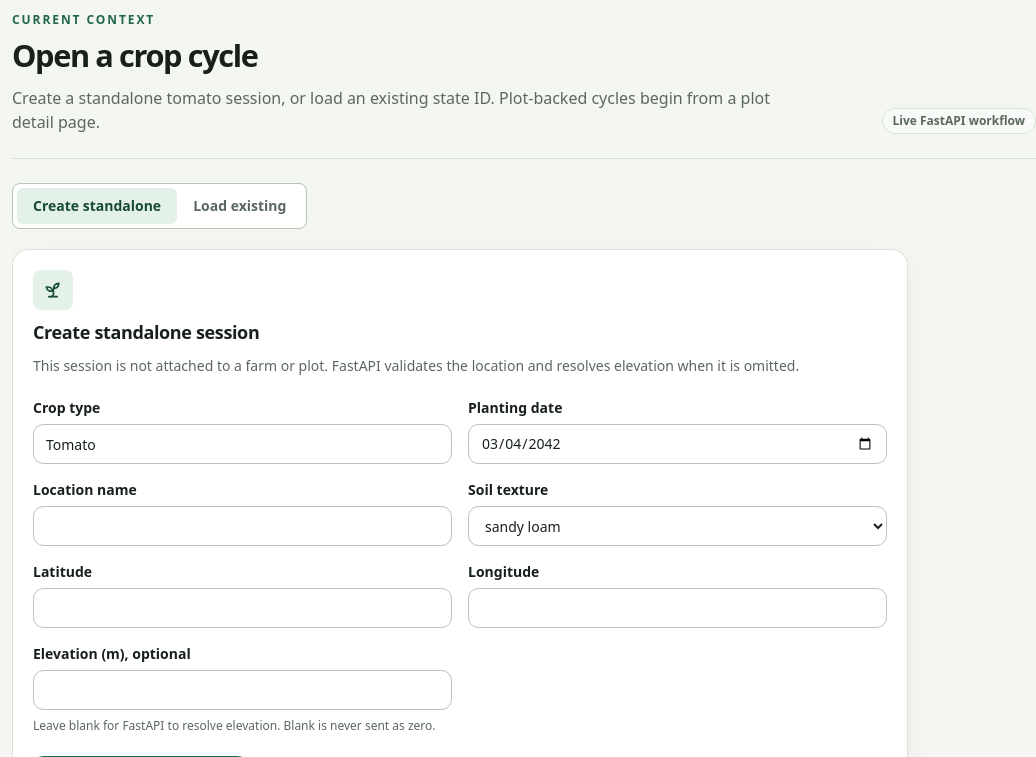
Test case: existing session loading › keeps the route unchanged and shows a structured not-found error
This screenshot has width=1036, height=757.
Click the tab "Load existing" at [240, 206], box [177,188,302,224]
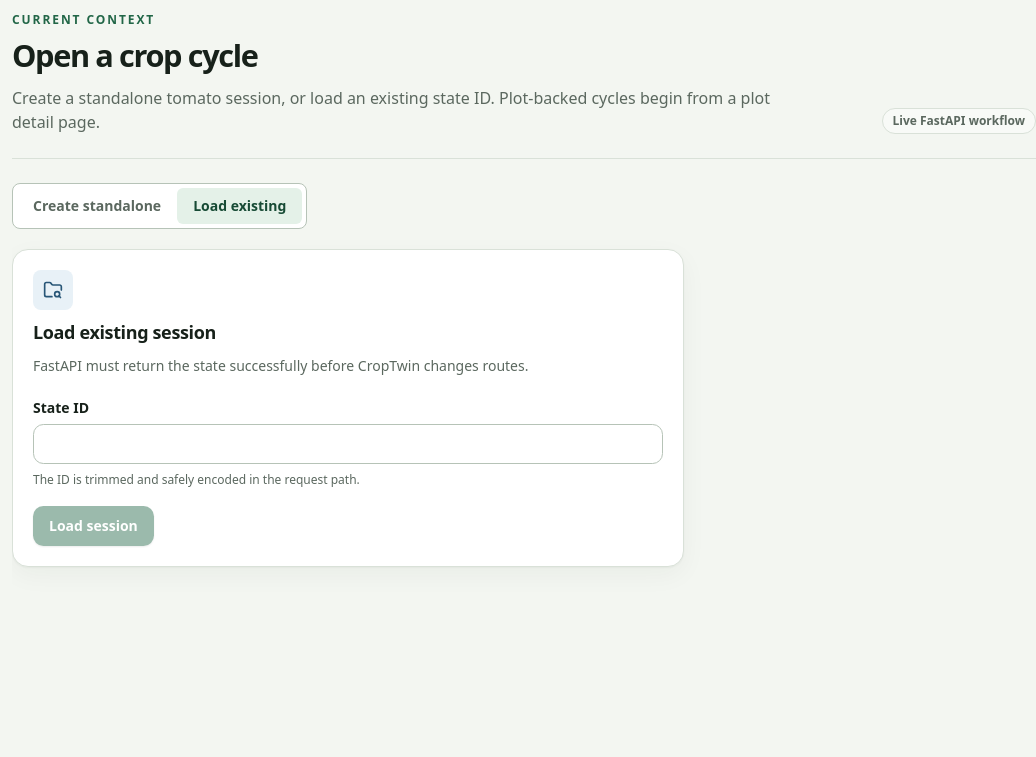
Type "missing" into the field labelled "State ID" at [348, 444], box [33,424,663,464]
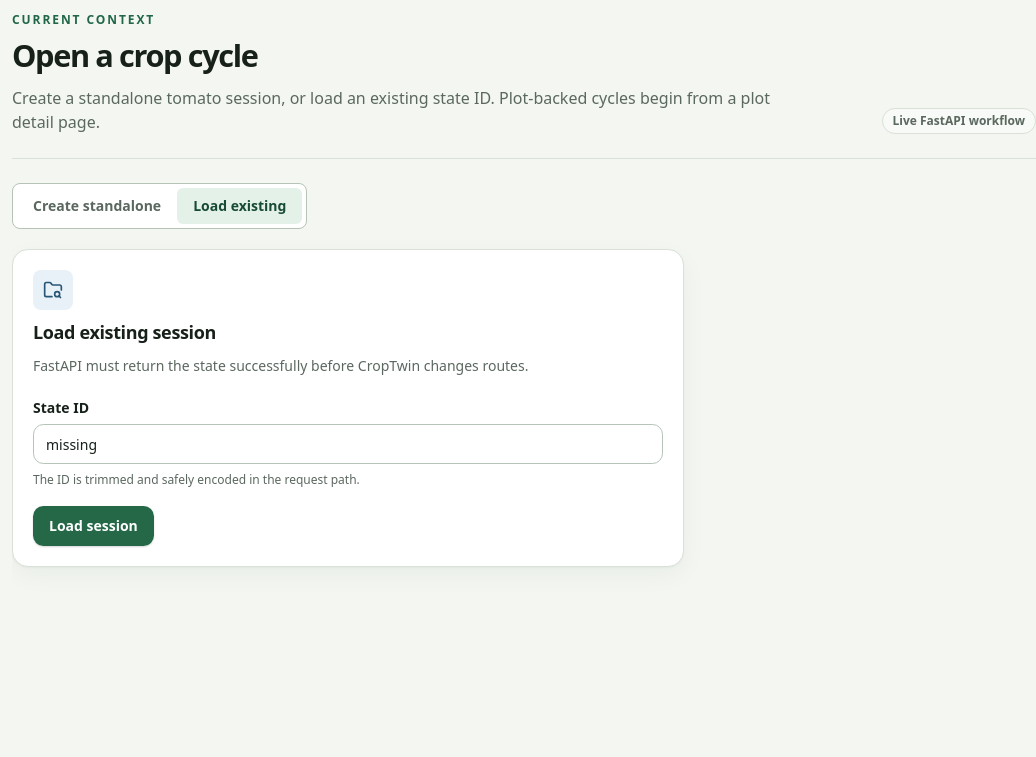
Click the button "Load session" at [93, 526], box [33,506,154,546]
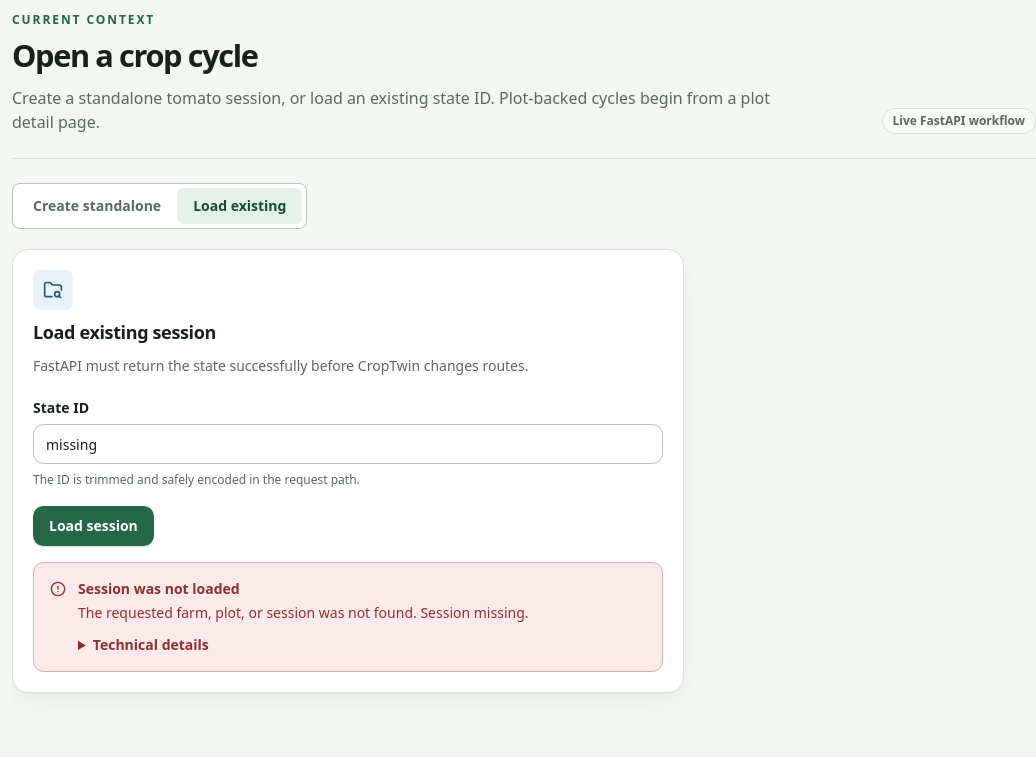
Result: the text "requested farm, plot, or session was not found" is shown at [78,603,528,622]
